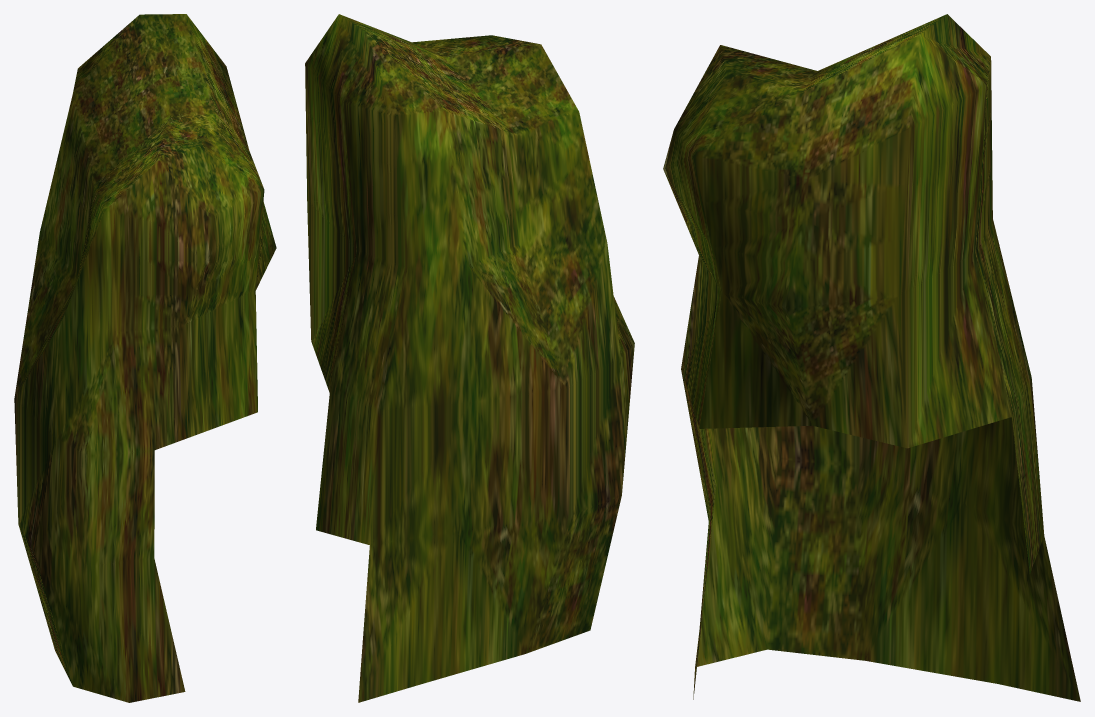
The model's file is TROLLHOLE02_RM_PSURF192.fbx.
3 views of the same model, side by side, from view 1: azimuth 30°, elevation 25°; view 2: azimuth 150°, elevation 25°; view 3: azimuth 270°, elevation 25° (orthographic). The views are drawn at different scales.
Visible parts, largest first — view 1: TROLLHOLE02_RM_PSURF192; view 2: TROLLHOLE02_RM_PSURF192; view 3: TROLLHOLE02_RM_PSURF192.
Part boxes in pixels (x1,y1,x2,y2): TROLLHOLE02_RM_PSURF192: (14, 14, 276, 702); TROLLHOLE02_RM_PSURF192: (305, 14, 634, 702); TROLLHOLE02_RM_PSURF192: (663, 14, 1080, 701).
Size of the model in its own units: 47817 by 108287 by 56660.
1 material, 1 textured.
